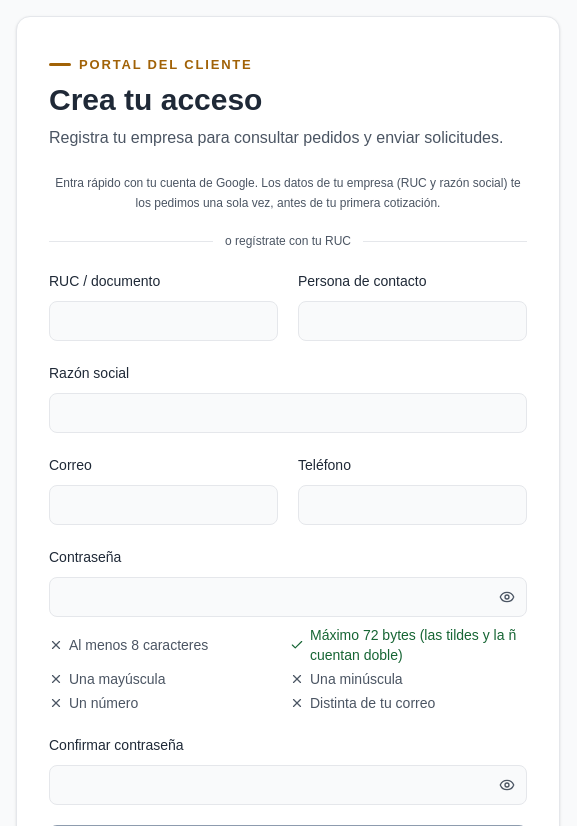
Scenario: RegistroClientePage: contraseña (7.2) › el botón de ojo cambia el tipo del campo y su aria-label
Click the button named "Mostrar contraseña". click: [507, 597]
box: [495,585,519,609]
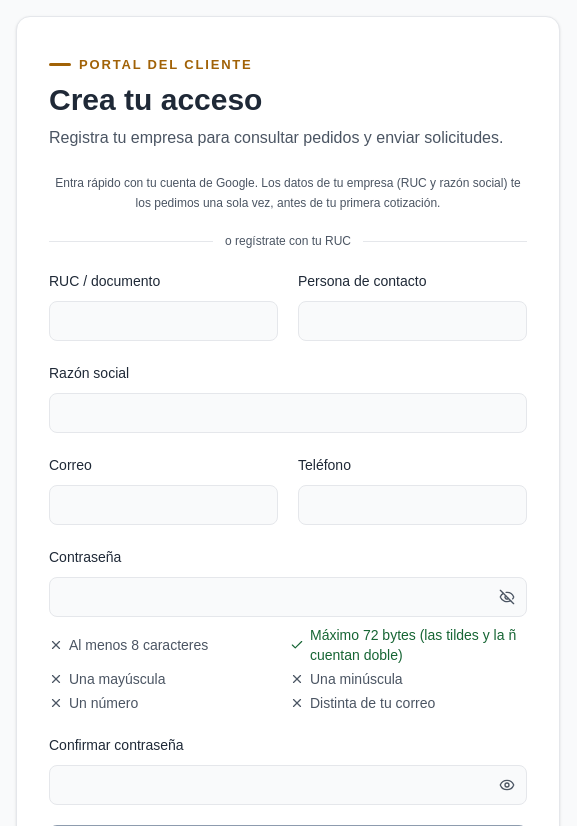
Expected: the button named "Ocultar contraseña" is shown, [495,585,519,609]
